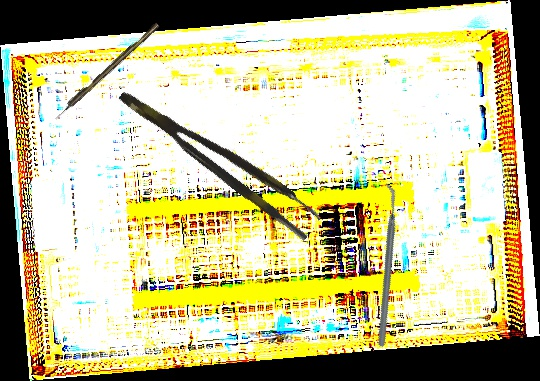Chopper: (316, 180, 454, 349)
Hook Surgical: (52, 22, 161, 121)
Tissue Forceps: (116, 74, 324, 242)
